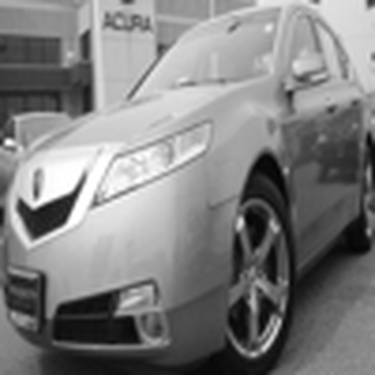car: (4, 1, 368, 372), (5, 109, 72, 177)
